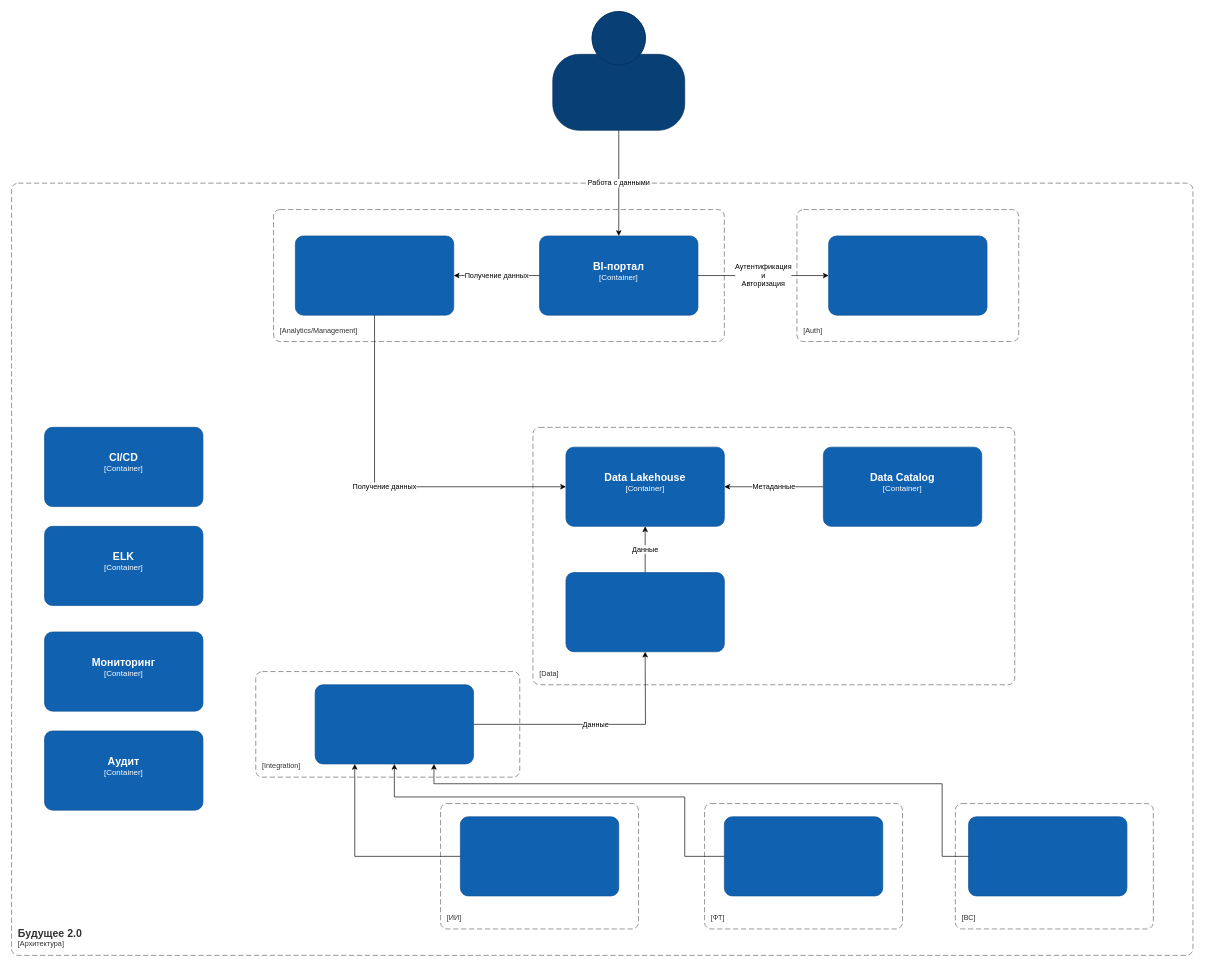
Some shapes in this 1205 by 967 pixel diagram are drawn without their labels. Here are the shapes that lost their labels. From the top down, the centre of each, then its label:
At (618,70): "[Person] Пользователь".
At (374,275): "BI [Container] BI".
At (907,275): "IAM [Container] Keycloak".
At (644,612): "ETL [Container]".
At (394,724): "EBS [Container] Kafka".
At (539,856): "ИИ-сервисы [Container]".
At (803,856): "Финтех-сервисы [Container]".
At (1047,856): "Внутреннии-сервисы [Container]".
